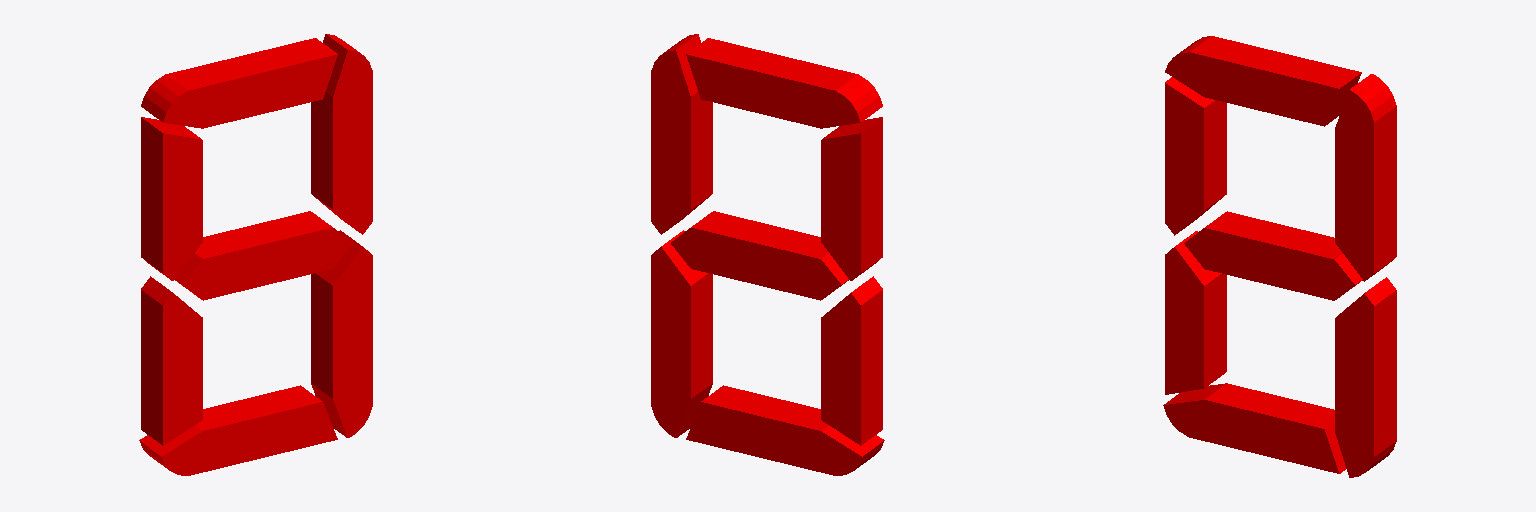
Rendered from clock_digit.obj.
3 views of the same model, side by side, from view 1: azimuth 30°, elevation 25°; view 2: azimuth 150°, elevation 25°; view 3: azimuth 330°, elevation 25° (orthographic).
Visible parts, largest first — view 1: A, E, D, F, G, B, C; view 2: A, E, D, F, G, B, C; view 3: F, E, A, D, G, C, B.
Part boxes in pixels (left/top/right/bottom): A: left=141, top=38, right=337, bottom=128; E: left=311, top=230, right=372, bottom=437; D: left=139, top=385, right=337, bottom=475; F: left=311, top=34, right=372, bottom=234; G: left=175, top=211, right=352, bottom=300; B: left=141, top=117, right=202, bottom=280; C: left=141, top=276, right=202, bottom=445; A: left=686, top=38, right=882, bottom=128; E: left=651, top=230, right=712, bottom=437; D: left=686, top=385, right=884, bottom=475; F: left=651, top=34, right=712, bottom=234; G: left=671, top=211, right=848, bottom=300; B: left=821, top=117, right=882, bottom=280; C: left=821, top=276, right=882, bottom=445; F: left=1335, top=74, right=1396, bottom=281; E: left=1335, top=277, right=1396, bottom=477; A: left=1165, top=36, right=1361, bottom=126; D: left=1163, top=383, right=1345, bottom=473; G: left=1184, top=211, right=1362, bottom=300; C: left=1165, top=231, right=1226, bottom=394; B: left=1165, top=77, right=1226, bottom=235.
Bounding box in the file's own units: 0.3388 × 0.5957 × 0.0625.